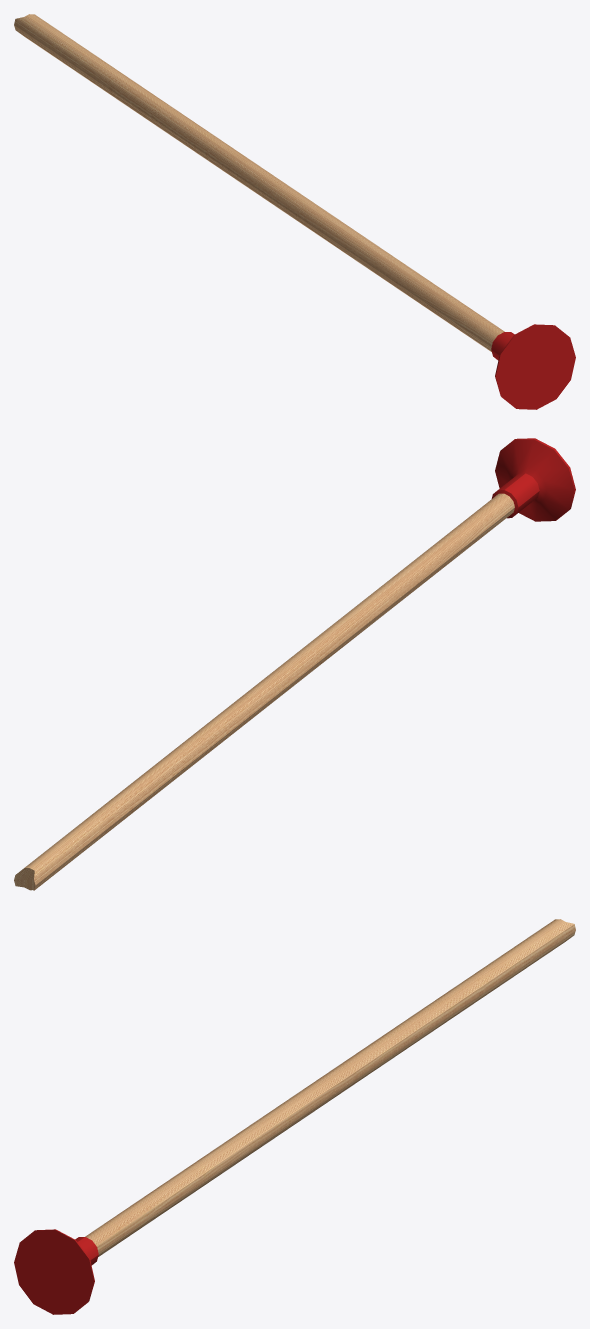
The model's file is Arrow.FBX.
3 renders of one model, top to bottom at view 1: azimuth 30°, elevation 25°; view 2: azimuth 150°, elevation 25°; view 3: azimuth 330°, elevation 25°, orthographic.
Visible parts, largest first — view 1: arrow; view 2: arrow; view 3: arrow.
Boxes of the visible parts, x1=… form: arrow: x1=14, y1=14, x2=575, y2=409; arrow: x1=14, y1=438, x2=575, y2=890; arrow: x1=14, y1=919, x2=575, y2=1314.
Size of the model in its own units: 0.7835 by 0.7831 by 8.64.
